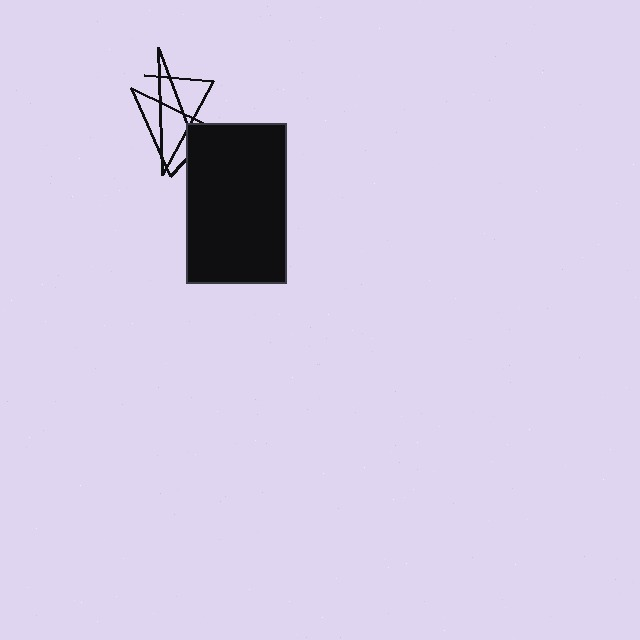crocodile_crack: (113, 42, 221, 259)
phone: (186, 123, 386, 283)
